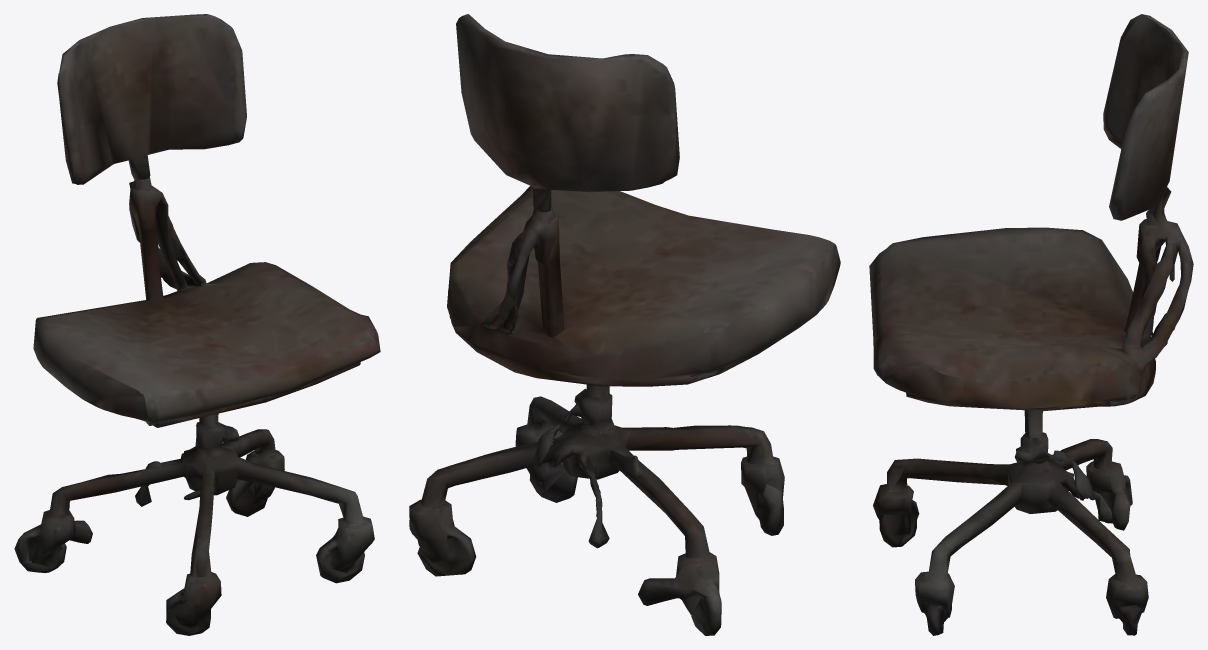
File: worn-iron-examination-chair-v002.glb
3 views of the same model, side by side, from view 1: azimuth 30°, elevation 25°; view 2: azimuth 150°, elevation 25°; view 3: azimuth 270°, elevation 25° (orthographic). The views are drawn at different scales.
Parts seen in each view (by area): view 1: worn-iron-examination-chair; view 2: worn-iron-examination-chair; view 3: worn-iron-examination-chair.
Part boxes in pixels (<box>): worn-iron-examination-chair: <box>14,14,380,635</box>; worn-iron-examination-chair: <box>409,14,840,635</box>; worn-iron-examination-chair: <box>869,14,1193,635</box>.
Bounding box in the file's own units: 0.7736 × 1.32 × 0.7343.
Materials: 1 (1 with a texture image).
